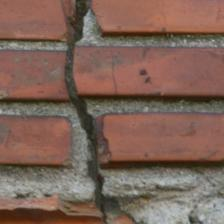Crack: (32, 2, 86, 213)
